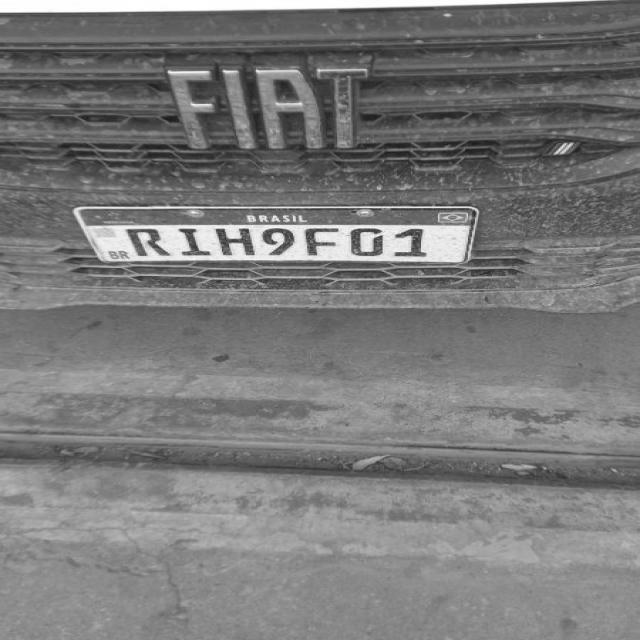placa_mercosul: (77, 203, 480, 265)
